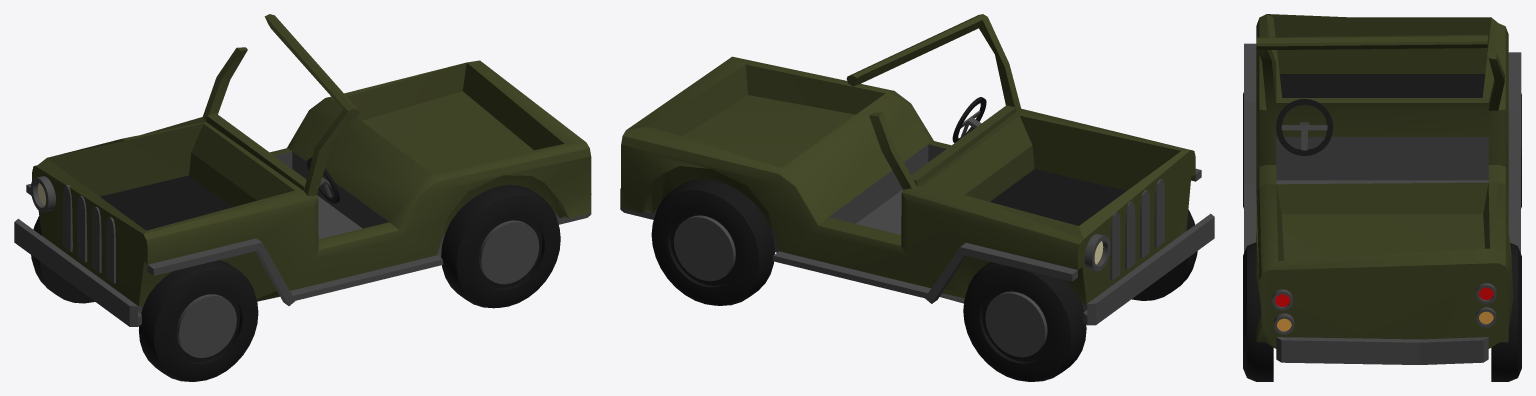
File: brocken_jeep.fbx
The picture shows the model from 3 angles, left to right: view 1: azimuth 30°, elevation 25°; view 2: azimuth 150°, elevation 25°; view 3: azimuth 270°, elevation 25°; orthographic projection. The views are drawn at different scales.
Visible parts, largest first — view 1: body, wheel_2, wheel_1, wheel_4; view 2: body, wheel_3, wheel_4, wheel_1, kermo; view 3: body, wheel_2, wheel_3, kermo.
Boxes of the visible parts, x1,y1,x2,y2 form: body: (14, 14, 591, 326); wheel_2: (441, 185, 560, 308); wheel_1: (138, 260, 258, 381); wheel_4: (31, 216, 94, 303); body: (620, 14, 1214, 325); wheel_3: (651, 179, 774, 305); wheel_4: (963, 262, 1086, 381); wheel_1: (1132, 209, 1197, 300); kermo: (952, 97, 986, 142); body: (1244, 14, 1521, 364); wheel_2: (1243, 242, 1273, 381); wheel_3: (1491, 243, 1521, 381); kermo: (1276, 99, 1333, 155).
Bounding box in the file's own units: 385 × 192 × 179.
